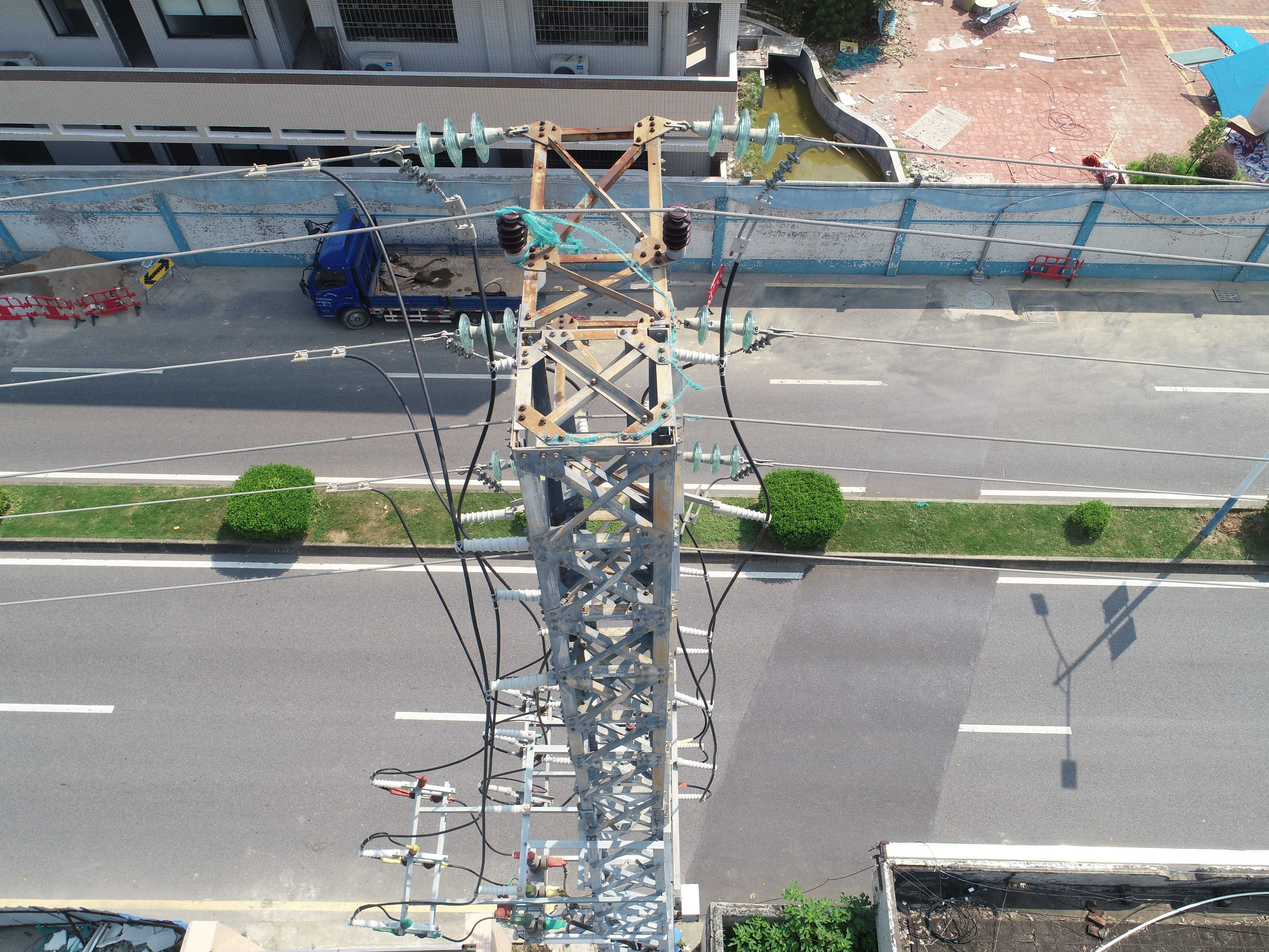异物: (495, 205, 726, 453)
